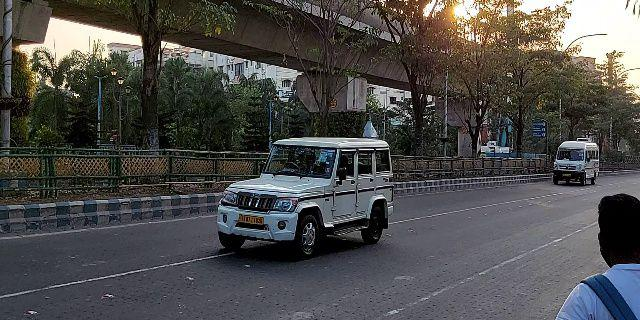Car: (209, 134, 399, 263)
Van: (549, 136, 603, 190)
